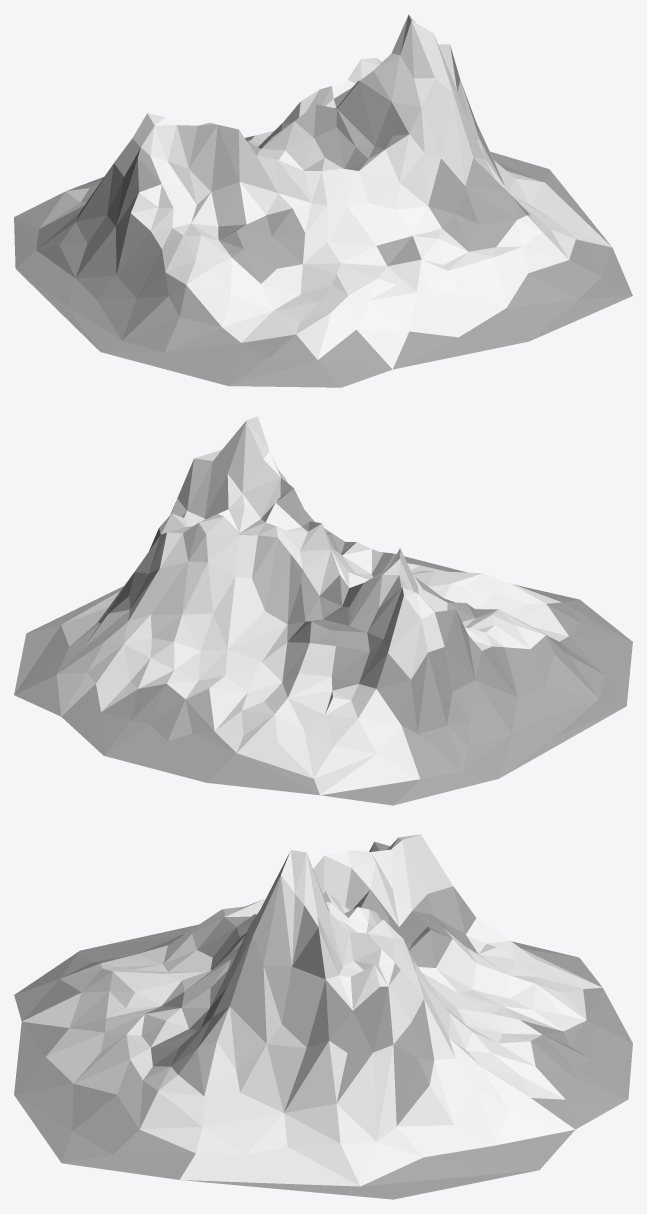
File: DWE_Mountain_02A.fbx
3 views of the same model, one above another, from view 1: azimuth 30°, elevation 25°; view 2: azimuth 150°, elevation 25°; view 3: azimuth 270°, elevation 25° (orthographic). The views are drawn at different scales.
Parts seen in each view (by area): view 1: DWE_Mountain_02A; view 2: DWE_Mountain_02A; view 3: DWE_Mountain_02A.
Part boxes in pixels (x1,y1,x2,y2): DWE_Mountain_02A: [14, 14, 632, 387]; DWE_Mountain_02A: [14, 416, 632, 805]; DWE_Mountain_02A: [14, 834, 632, 1199].
Bounding box in the file's own units: 10922 × 4534 × 10156.
